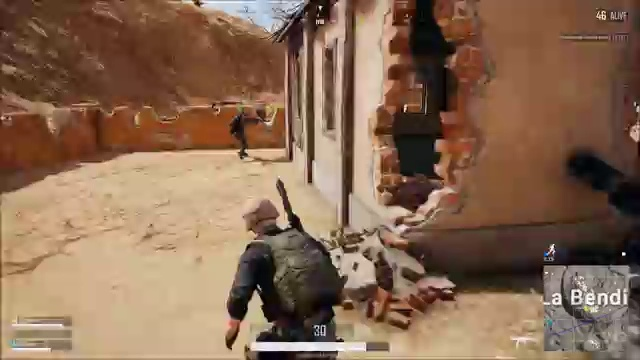Player: (192, 173, 371, 322), (220, 108, 274, 167)
